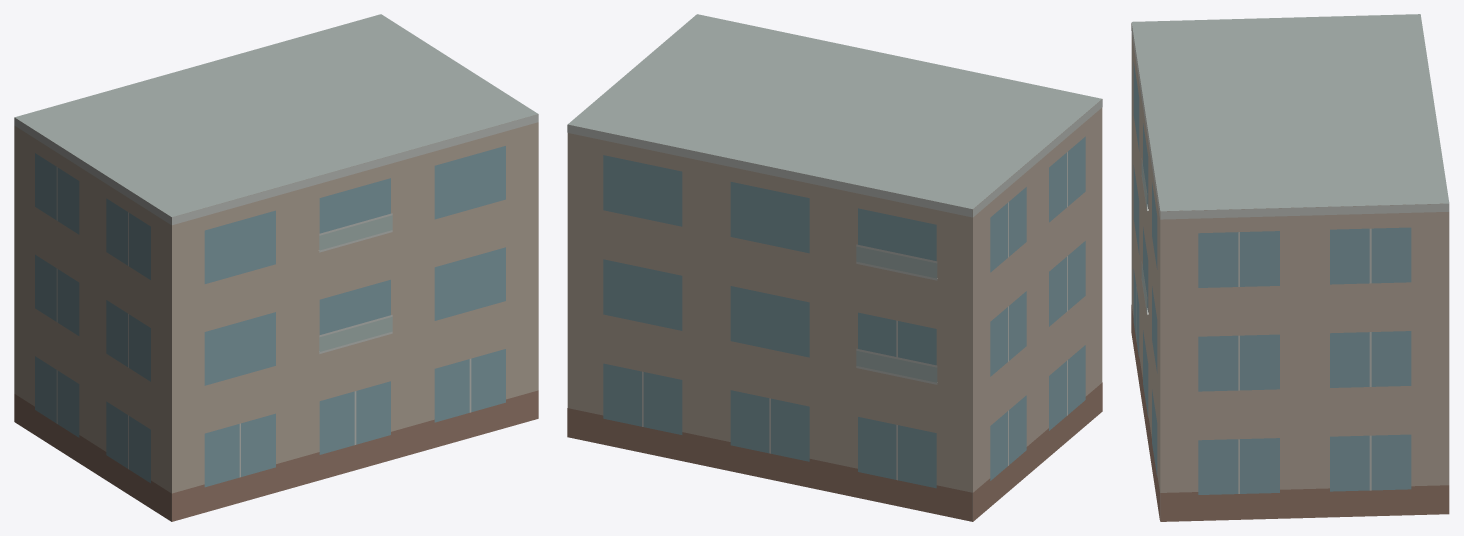
The model's file is survey-upis-33035641.glb.
3 renders of one model, left to right at view 1: azimuth 30°, elevation 25°; view 2: azimuth 150°, elevation 25°; view 3: azimuth 270°, elevation 25°, orthographic. The views are drawn at different scales.
Parts seen in each view (by area): view 1: survey-upis-33035641.tmp; view 2: survey-upis-33035641.tmp; view 3: survey-upis-33035641.tmp.
Part boxes in pixels (x1=…): survey-upis-33035641.tmp: x1=14, y1=14, x2=538, y2=521; survey-upis-33035641.tmp: x1=567, y1=14, x2=1102, y2=521; survey-upis-33035641.tmp: x1=1131, y1=14, x2=1449, y2=521.
Bounding box in the file's own units: 12.47 × 9.15 × 8.5.
